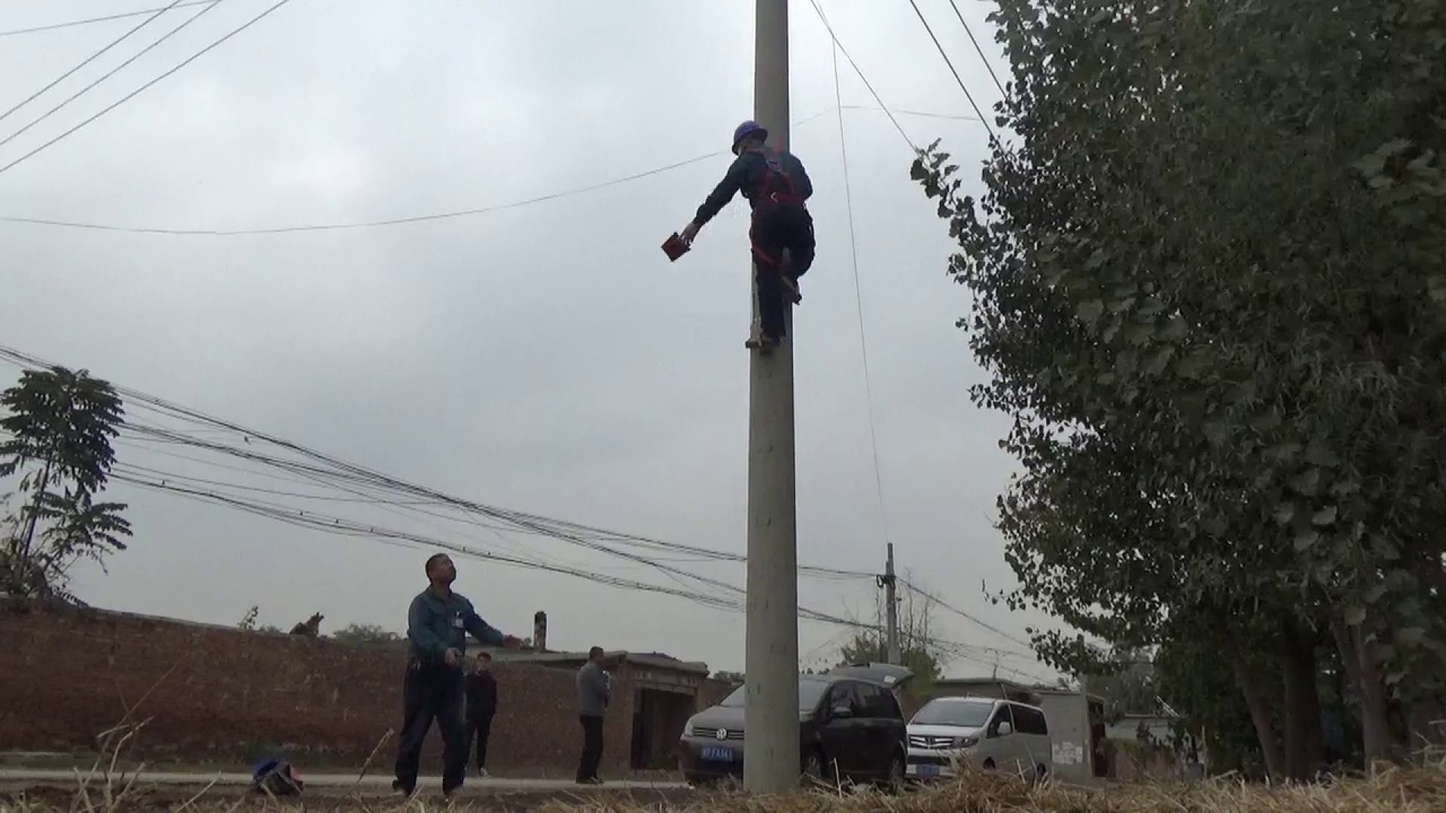安全帽、工作服均未穿戴的工作人员: (395, 553, 531, 802)
